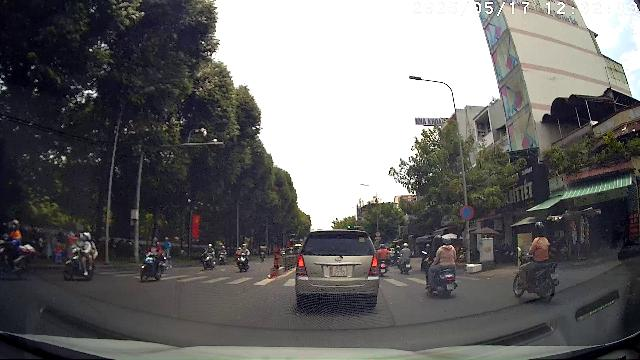131a-cam-do-xe: (460, 206, 474, 220)
